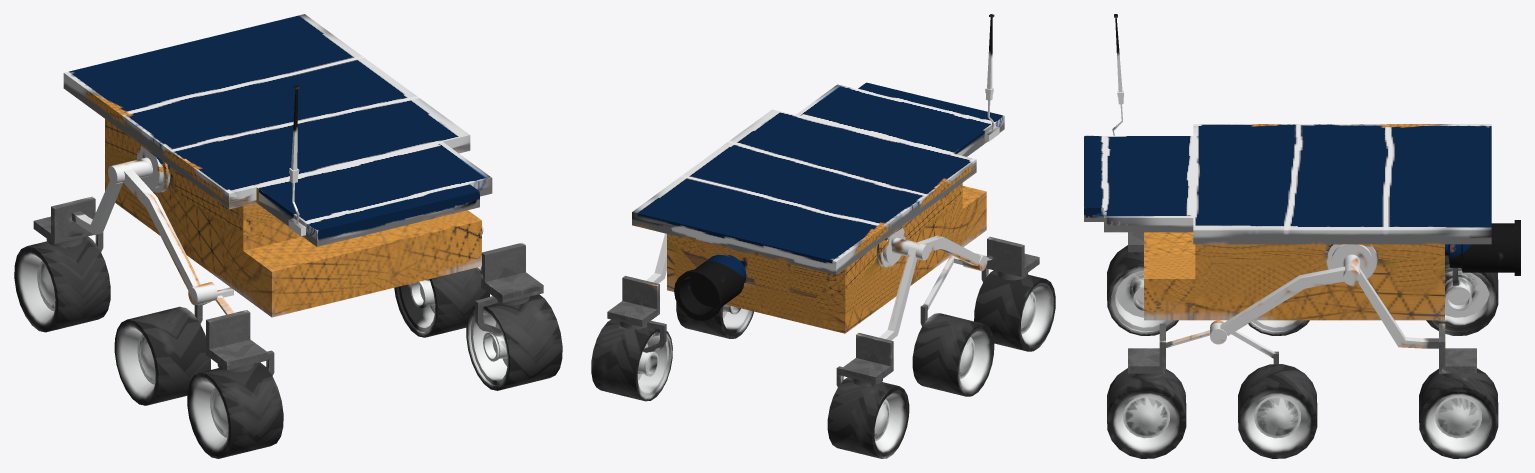
Rendered from mars_sojourner_rover_model-v1.glb.
3 views of the same model, side by side, from view 1: azimuth 30°, elevation 25°; view 2: azimuth 150°, elevation 25°; view 3: azimuth 270°, elevation 25° (orthographic). The views are drawn at different scales.
Visible parts, largest first — view 1: pCylinder21_UV1012_0, pCylinder21_UV1001_0, pCylinder21_UV1003_0, pCylinder21_UV1002_0, pCylinder21_UV1004_0; view 2: pCylinder21_UV1012_0, pCylinder21_UV1001_0, pCylinder21_UV1003_0, pCylinder21_UV1002_0, pCylinder21_UV1011_0, pCylinder21_UV1004_0; view 3: pCylinder21_UV1012_0, pCylinder21_UV1003_0, pCylinder21_UV1001_0, pCylinder21_UV1011_0, pCylinder21_UV1004_0, pCylinder21_UV1002_0.
Part boxes in pixels (<box>): pCylinder21_UV1012_0: <box>63,14,492,317</box>; pCylinder21_UV1001_0: <box>14,86,299,458</box>; pCylinder21_UV1003_0: <box>394,209,562,390</box>; pCylinder21_UV1002_0: <box>33,85,299,375</box>; pCylinder21_UV1004_0: <box>475,242,543,333</box>; pCylinder21_UV1012_0: <box>632,17,1004,333</box>; pCylinder21_UV1001_0: <box>827,15,1055,458</box>; pCylinder21_UV1003_0: <box>591,233,753,401</box>; pCylinder21_UV1002_0: <box>836,14,1039,386</box>; pCylinder21_UV1011_0: <box>674,254,746,320</box>; pCylinder21_UV1004_0: <box>607,275,666,352</box>; pCylinder21_UV1012_0: <box>1084,17,1491,320</box>; pCylinder21_UV1003_0: <box>1107,244,1498,458</box>; pCylinder21_UV1001_0: <box>1107,15,1498,335</box>; pCylinder21_UV1011_0: <box>1445,220,1520,275</box>; pCylinder21_UV1004_0: <box>1128,323,1476,378</box>; pCylinder21_UV1002_0: <box>1114,14,1459,285</box>.
Size of the model in its own units: 628 by 660 by 794.
6 materials, 6 textured.
